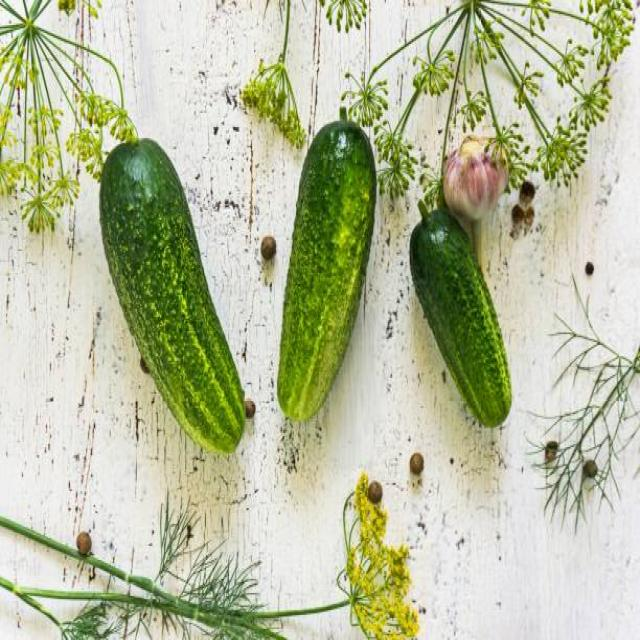cucumber: (100, 136, 246, 455), (276, 119, 378, 424), (410, 209, 513, 428)
